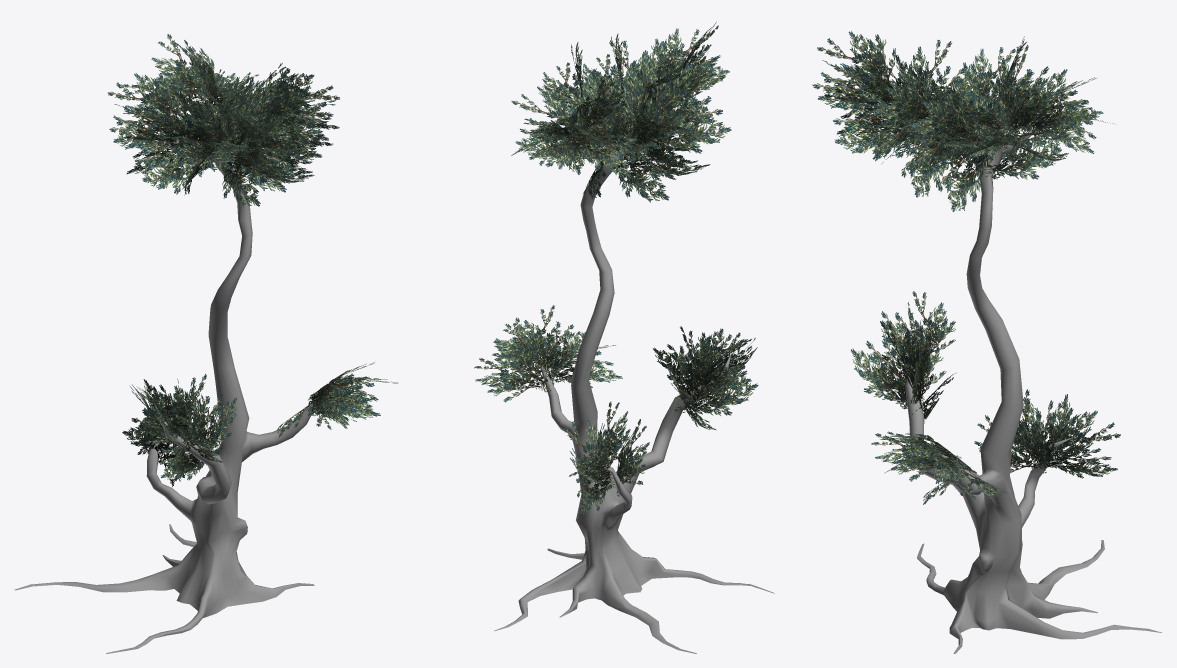
File: ektree_lod0.fbx
3 renders of one model, left to right at view 1: azimuth 30°, elevation 25°; view 2: azimuth 150°, elevation 25°; view 3: azimuth 270°, elevation 25°, orthographic. The views are drawn at different scales.
Visible parts, largest first — view 1: Default_Layer; view 2: Default_Layer; view 3: Default_Layer.
Boxes of the visible parts, left/top/right/bottom form: Default_Layer: left=14, top=34, right=397, bottom=653; Default_Layer: left=474, top=22, right=774, bottom=653; Default_Layer: left=812, top=31, right=1162, bottom=653.
Bounding box in the file's own units: 873 × 1469 × 815.
